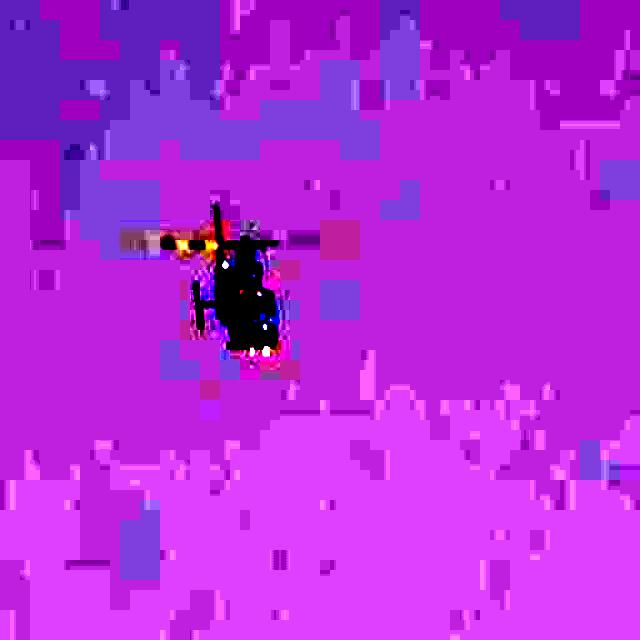drone: (99, 126, 359, 418)
